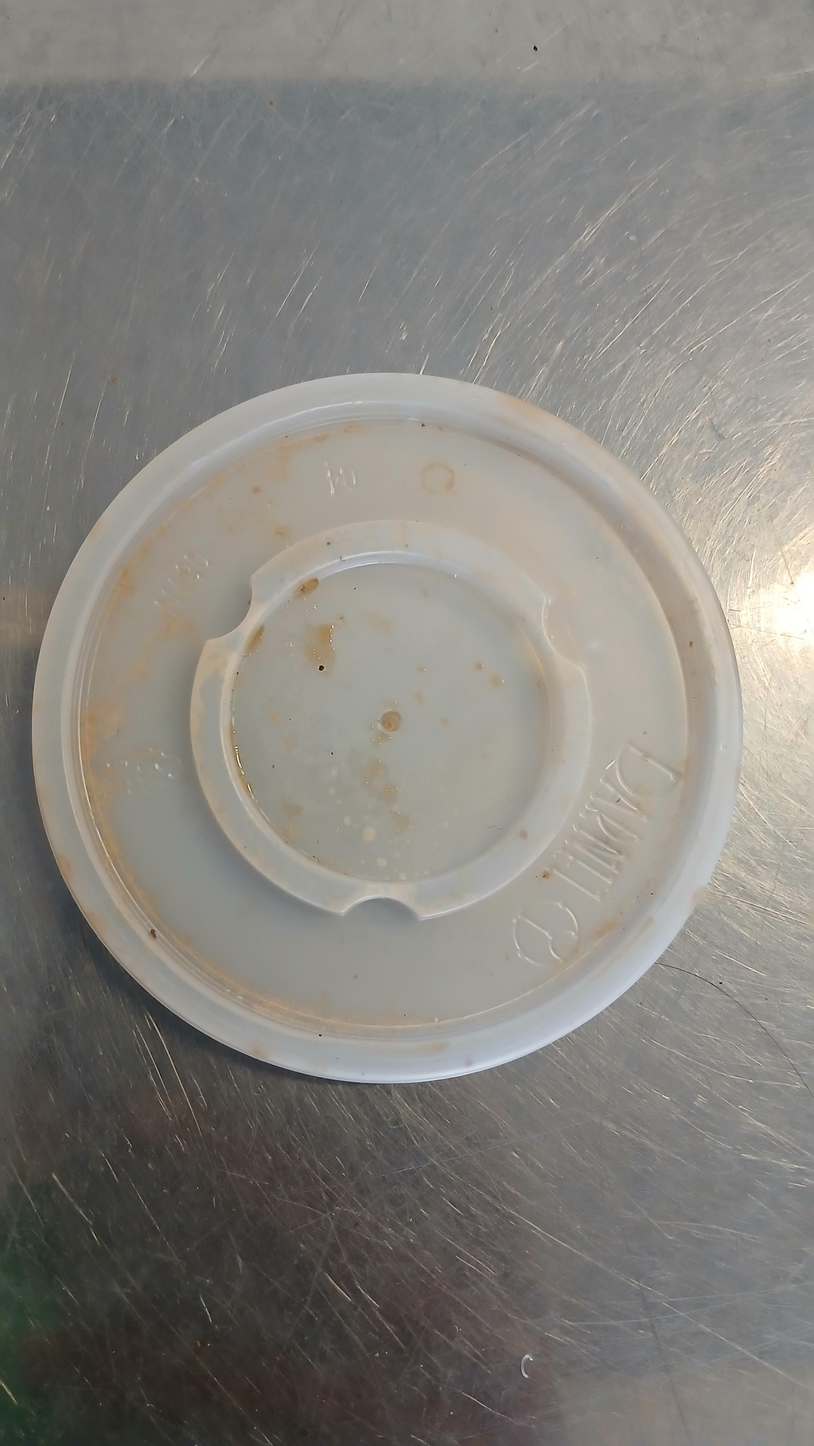Ordinario: (28, 367, 742, 1083)
